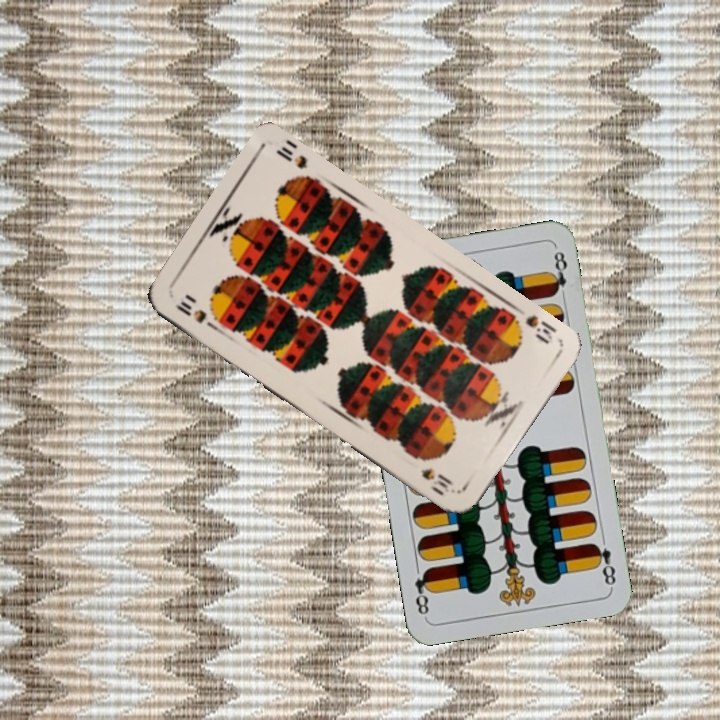E8: (588, 539, 619, 590)
S10: (171, 297, 219, 332), (521, 310, 560, 347)
